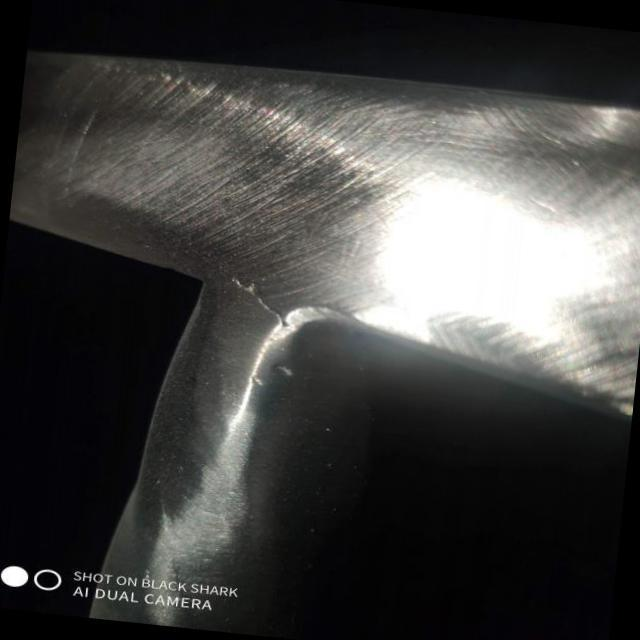defect: (225, 270, 296, 333)
